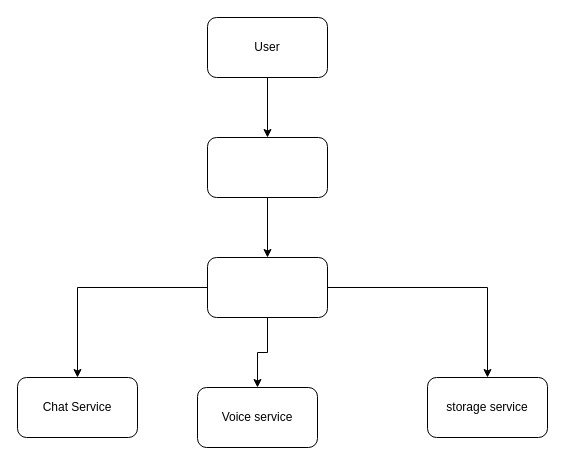
The diagram is 565 pixels wide and 465 high, and some of its shapes have lost their labels. Each missing label, with the box of its shape:
API (express): (206, 256, 328, 318)
Web App: (206, 136, 328, 198)
